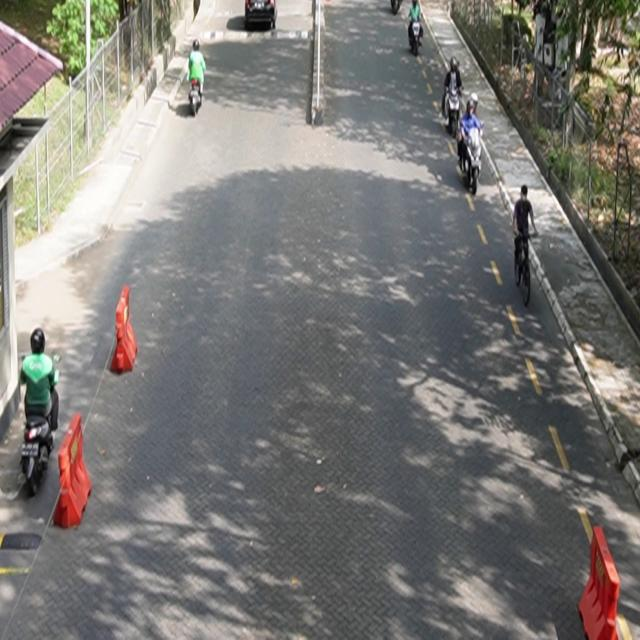car: (246, 1, 279, 31)
